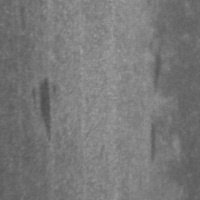inclusion: (34, 71, 59, 147), (147, 30, 170, 99), (143, 116, 163, 168)
